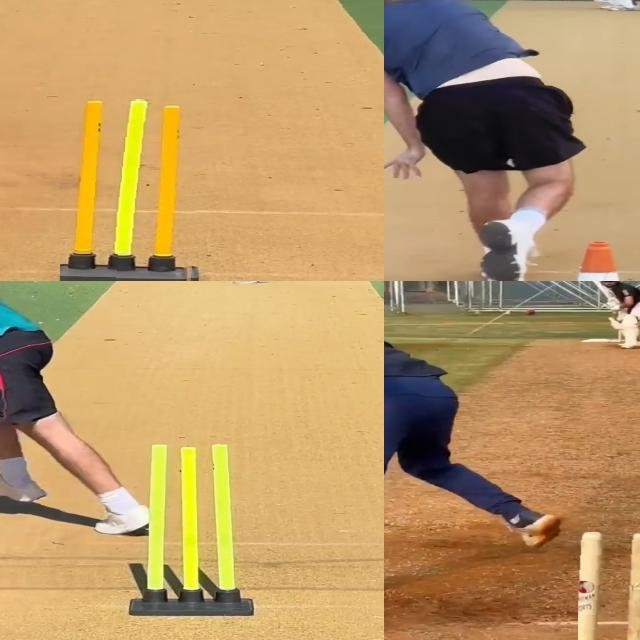Cricket ball: (523, 309, 537, 316)
Stumps: (60, 99, 203, 281), (130, 442, 256, 618), (577, 532, 640, 640)
